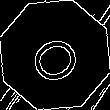O_NE: (23, 24, 87, 86)
